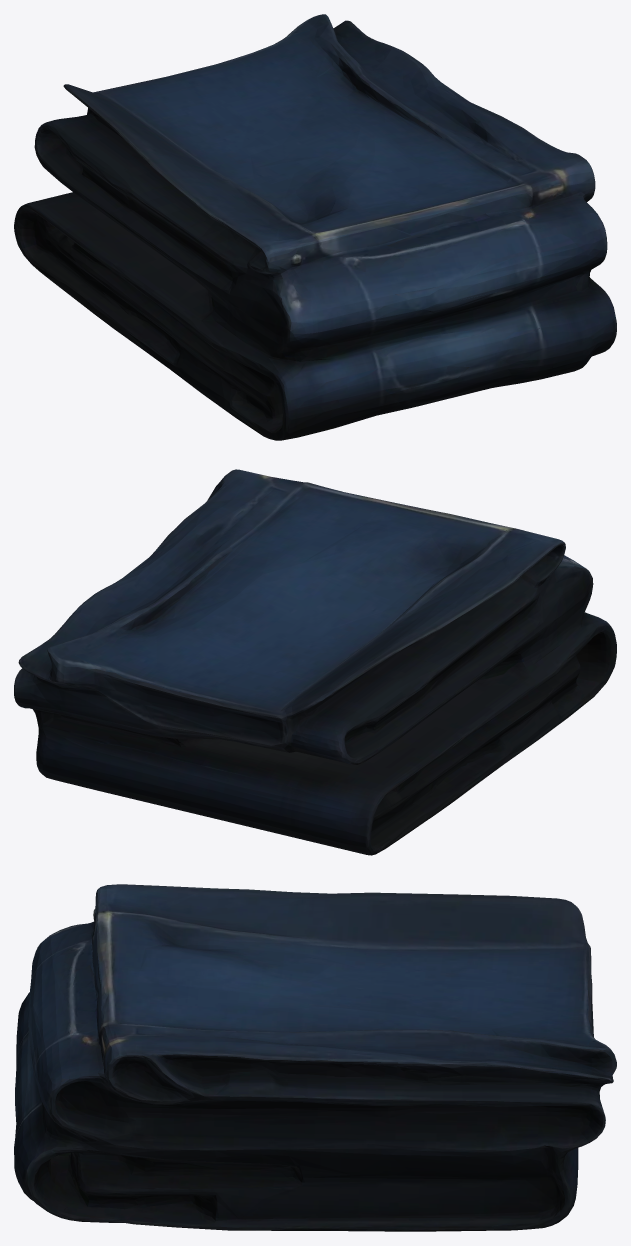
The model's file is clothes_folded_dark.glb.
3 renders of one model, top to bottom at view 1: azimuth 30°, elevation 25°; view 2: azimuth 150°, elevation 25°; view 3: azimuth 270°, elevation 25°, orthographic. The views are drawn at different scales.
Parts seen in each view (by area): view 1: geometry_0; view 2: geometry_0; view 3: geometry_0.
Part boxes in pixels (<box>): geometry_0: <box>14,14,616,440</box>; geometry_0: <box>14,469,616,855</box>; geometry_0: <box>14,884,616,1231</box>.
Size of the model in its own units: 0.7312 by 0.3334 by 0.9971.
1 material, 1 textured.
